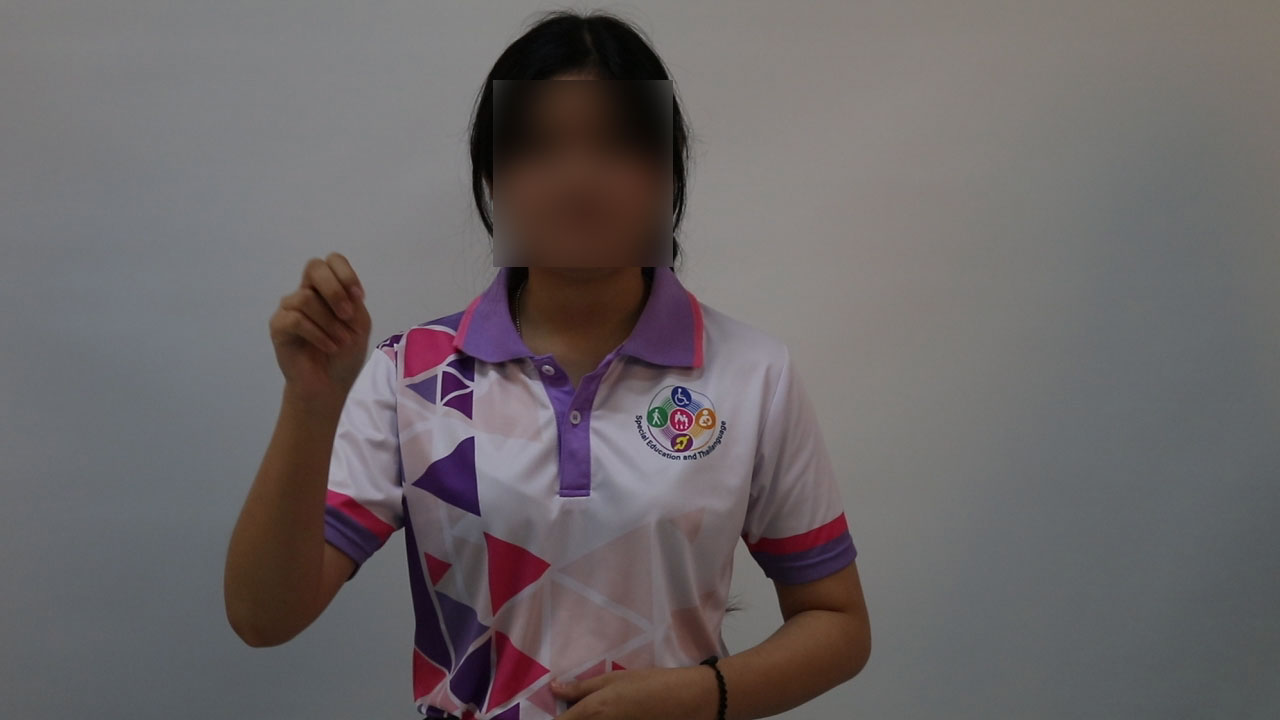nor: (260, 243, 384, 403)
